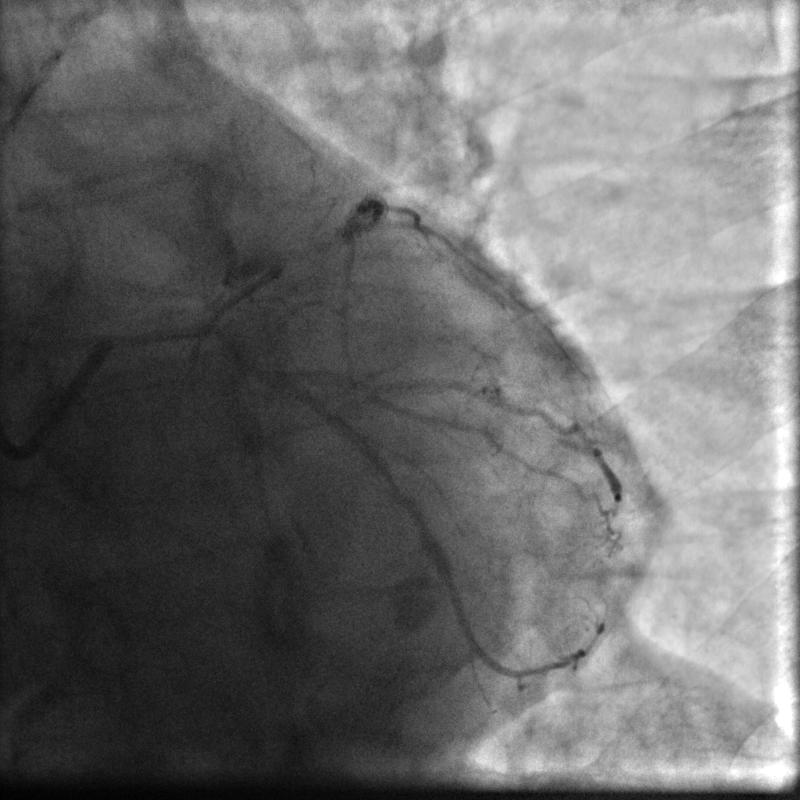Stenosis: (200, 288, 234, 324)
